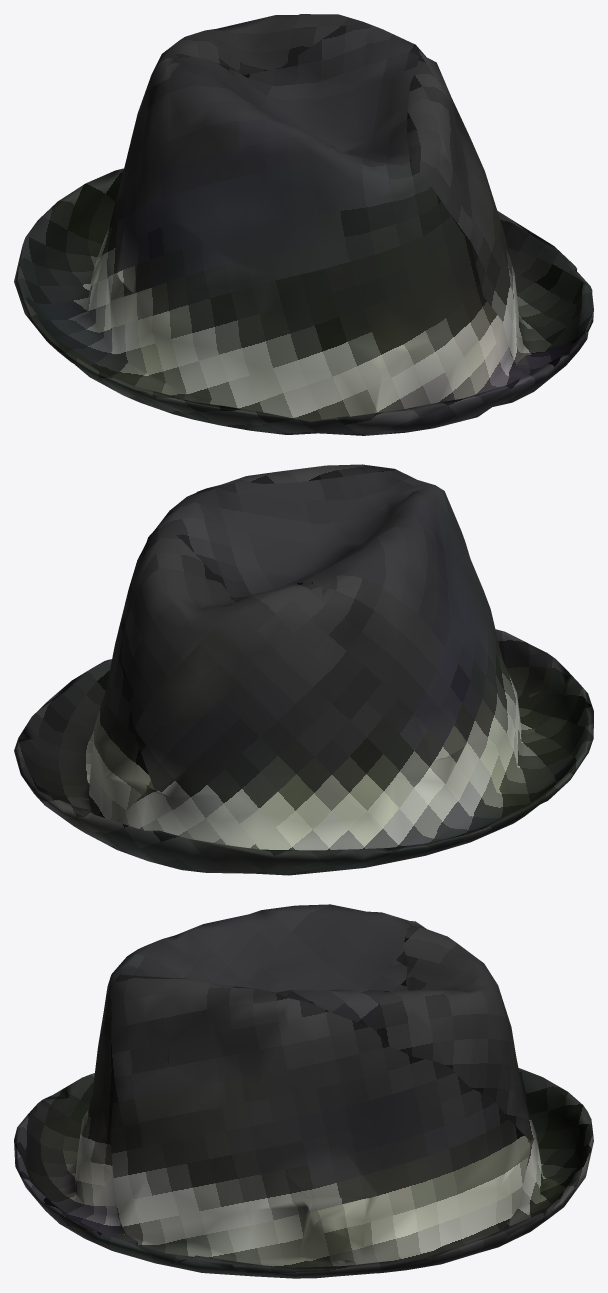
The model's file is Retail_Leadership_Summit_tQFCizMt6g0-low.glb.
The picture shows the model from 3 angles, top to bottom: view 1: azimuth 30°, elevation 25°; view 2: azimuth 150°, elevation 25°; view 3: azimuth 270°, elevation 25°; orthographic projection. The views are drawn at different scales.
Visible parts, largest first — view 1: Retail_Leadership_Summit_tQFCizMt6g0; view 2: Retail_Leadership_Summit_tQFCizMt6g0; view 3: Retail_Leadership_Summit_tQFCizMt6g0.
Boxes of the visible parts, left/top/right/bottom form: Retail_Leadership_Summit_tQFCizMt6g0: left=14, top=14, right=593, bottom=435; Retail_Leadership_Summit_tQFCizMt6g0: left=14, top=464, right=593, bottom=875; Retail_Leadership_Summit_tQFCizMt6g0: left=14, top=904, right=593, bottom=1278.
Size of the model in its own units: 0.2469 by 0.1251 by 0.2731.
1 material, 1 textured.
